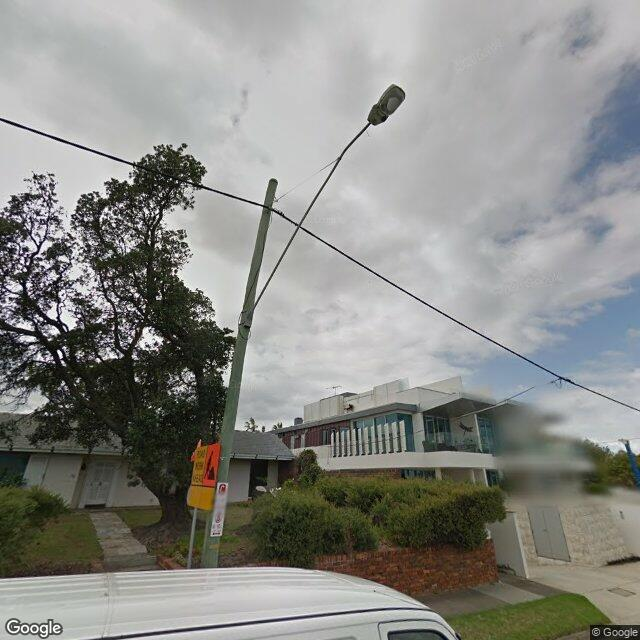streetlight: (250, 84, 407, 318)
timber-pole: (200, 178, 280, 569)
